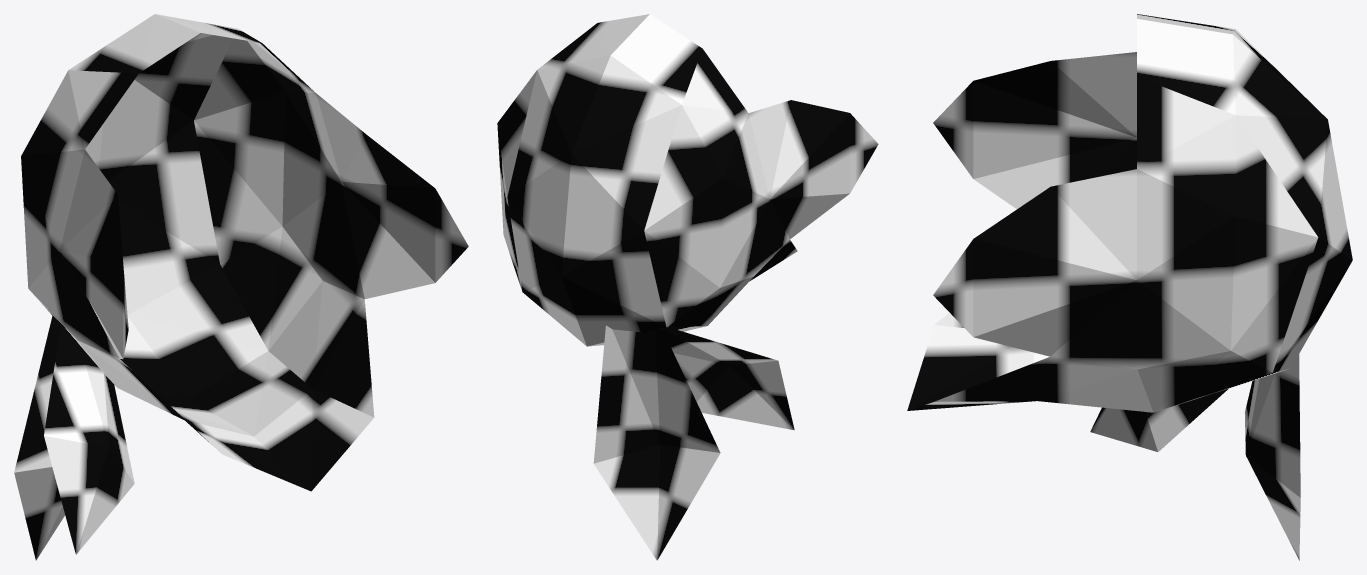
The model's file is initarhl12.dae.
The picture shows the model from 3 angles, left to right: view 1: azimuth 30°, elevation 25°; view 2: azimuth 150°, elevation 25°; view 3: azimuth 270°, elevation 25°; orthographic projection. The views are drawn at different scales.
Parts seen in each view (by area): view 1: armor; view 2: armor; view 3: armor.
Boxes of the visible parts, box(x1,y1,x2,y2) form: armor: box(14, 14, 468, 560); armor: box(497, 14, 878, 560); armor: box(907, 14, 1352, 560).
Bounding box in the file's own units: 0.8816 × 0.9634 × 1.4.
Materials: 1 (1 with a texture image).
